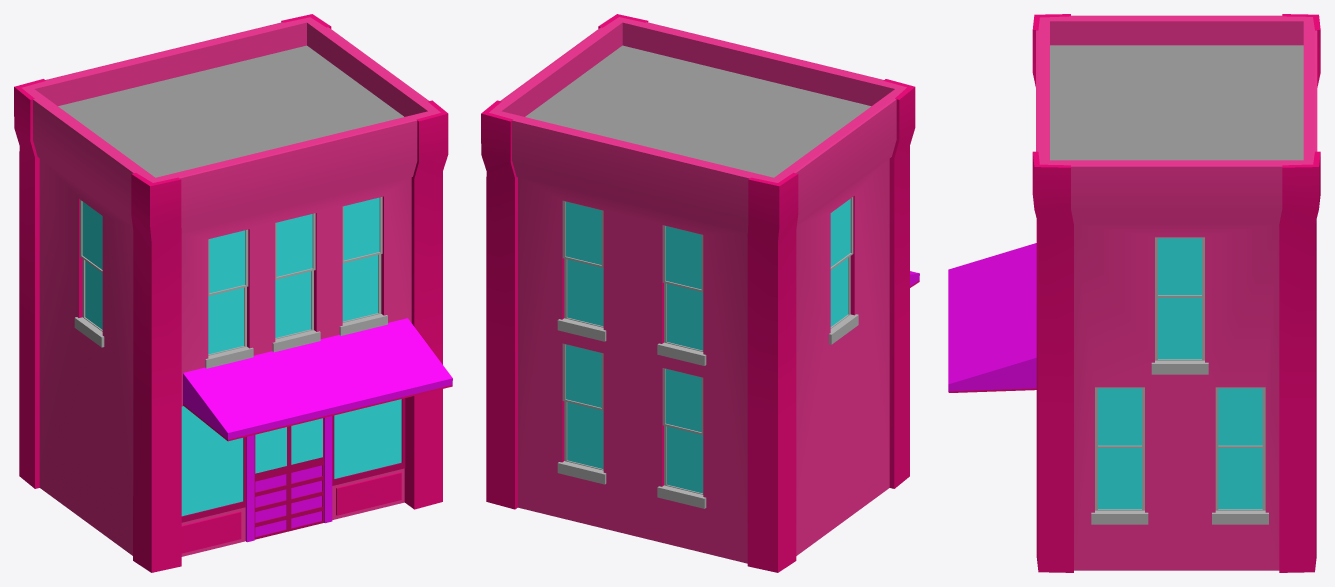
Rendered from SM_House_01_04.FBX.
3 renders of one model, left to right at view 1: azimuth 30°, elevation 25°; view 2: azimuth 150°, elevation 25°; view 3: azimuth 270°, elevation 25°, orthographic. The views are drawn at different scales.
Visible parts, largest first — view 1: SM_House_01_04; view 2: SM_House_01_04; view 3: SM_House_01_04.
Part boxes in pixels (x1,y1,x2,y2): SM_House_01_04: (14,14,452,572); SM_House_01_04: (481,14,919,572); SM_House_01_04: (948,14,1320,572).
Size of the model in its own units: 5.42 by 6.69 by 5.55.
Materials: 1 (1 with a texture image).
